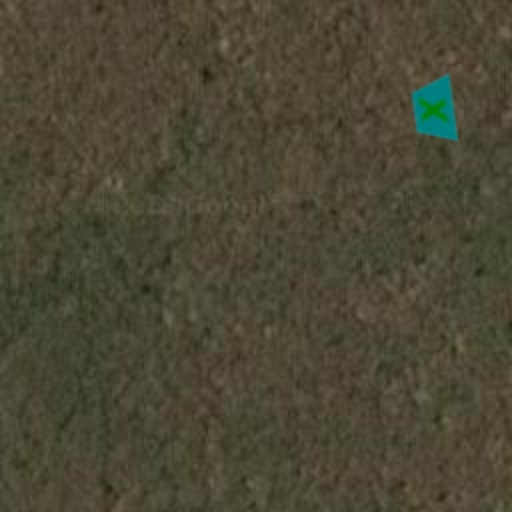trapezoid: (394, 70, 474, 150)
